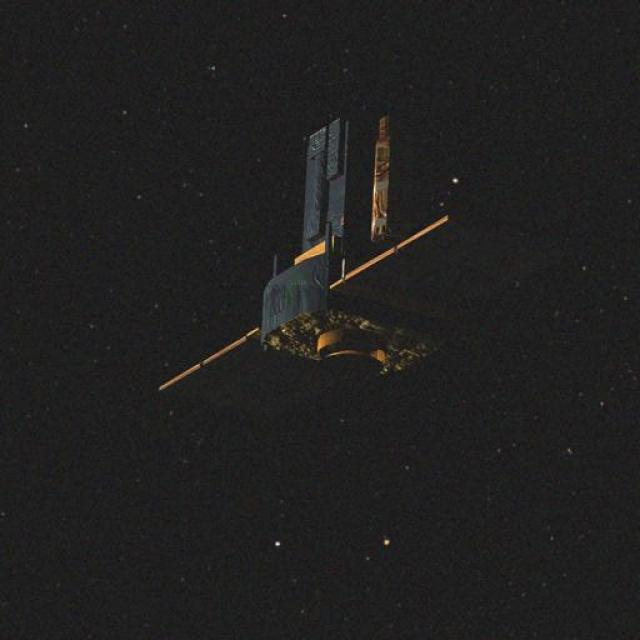soho: (205, 122, 516, 394)
